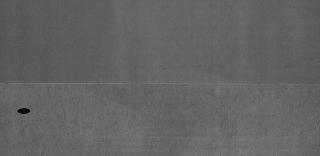punching hole: (15, 106, 33, 116)
welding line: (1, 78, 319, 90)
